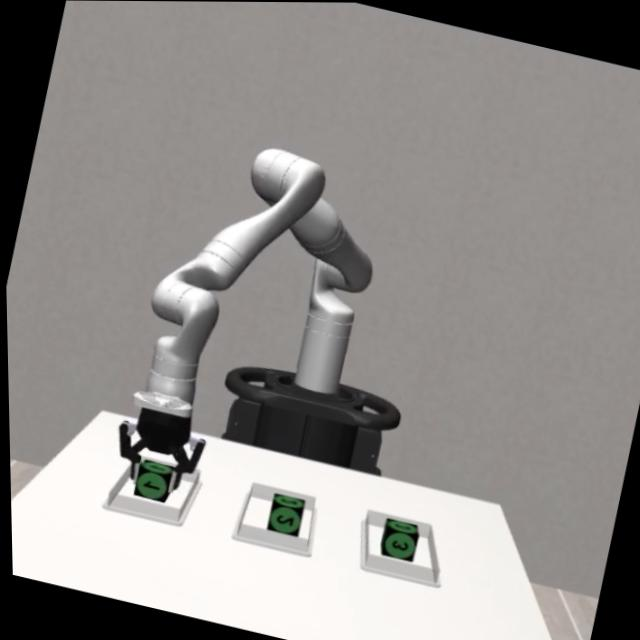cube1: (128, 455, 173, 502)
cube2: (260, 490, 306, 539)
cube3: (375, 517, 420, 562)
